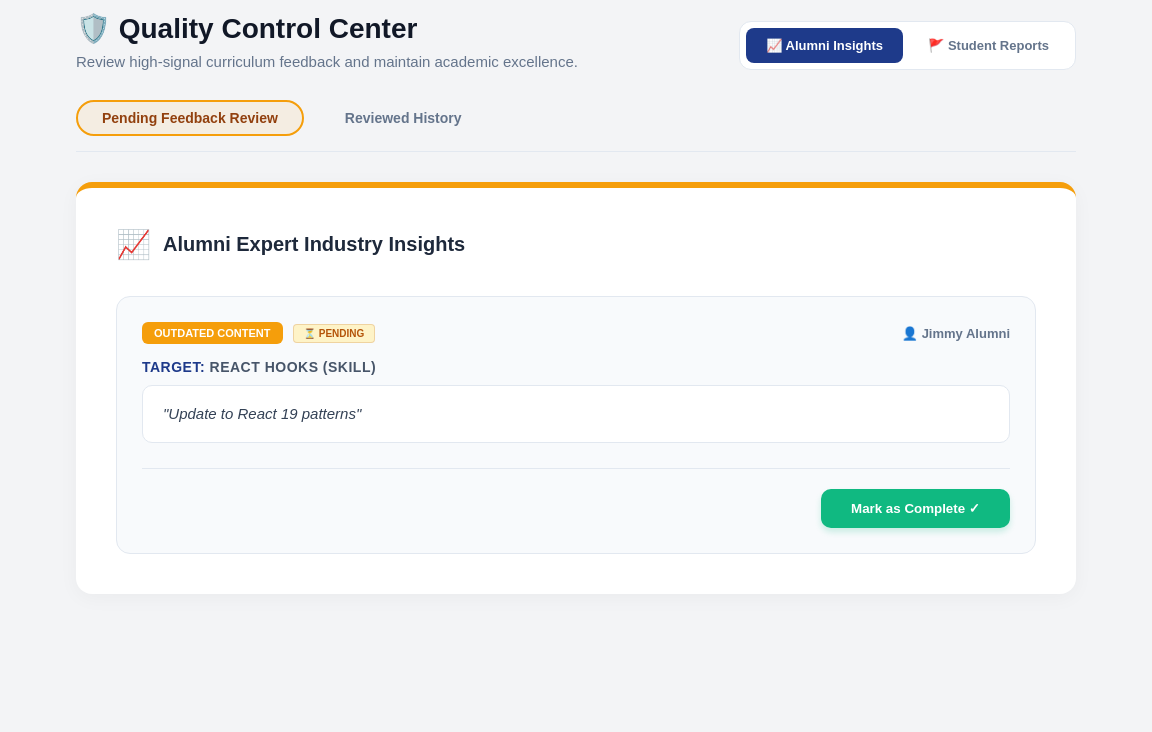
Test: AdminQualityControl Component › switches between Pending Review and Reviewed History tabs
Expected: the text "👤 Jimmy Alumni" is shown, [902,326,1010,340]
Note: Click History Tab
Click the button "Reviewed History": [403, 118] box [319,100,488,136]
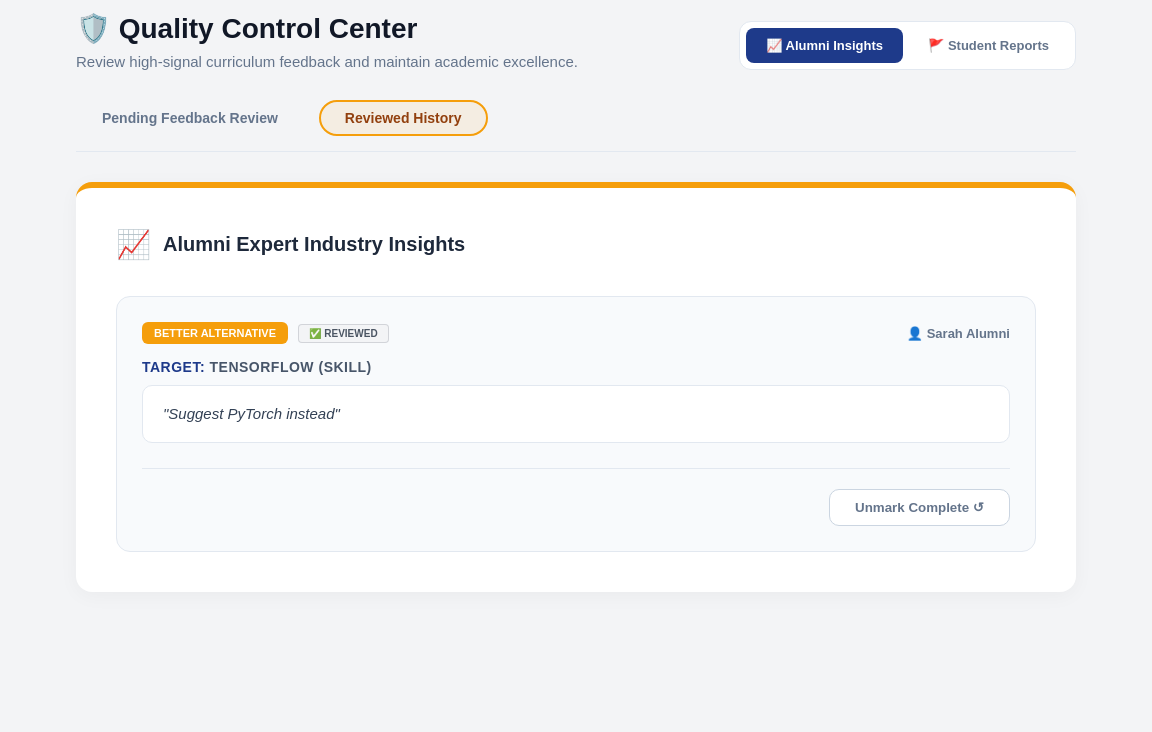
Expected: the text "👤 Sarah Alumni" is shown, [907,326,1010,340]
Expected: the text "Jimmy Alumni" is gone
